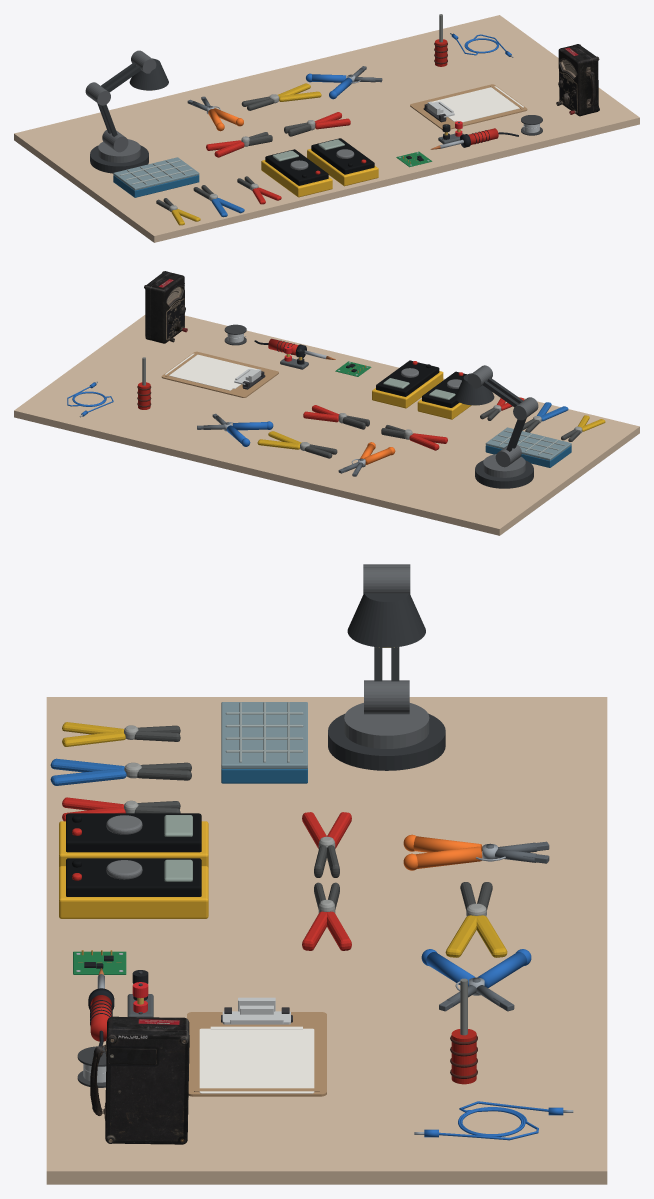
The model's file is workbench.glb.
3 renders of one model, top to bottom at view 1: azimuth 30°, elevation 25°; view 2: azimuth 150°, elevation 25°; view 3: azimuth 270°, elevation 25°, orthographic. The views are drawn at different scales.
Visible parts, largest first — view 1: part_0092, part_0102, part_0000, part_0097, part_0096, part_0095, part_0005, part_0003, part_0104, part_0101, part_0100, part_0094 (+3 smaller); view 2: part_0092, part_0102, part_0000, part_0095, part_0097, part_0005, part_0096, part_0003, part_0104, part_0101, part_0100, part_0094 (+2 smaller); view 3: part_0092, part_0102, part_0000, part_0095, part_0005, part_0097, part_0096, part_0003, part_0094, part_0104, part_0103, part_0098 (+6 smaller).
Boxes of the visible parts, bbox=[...] form: part_0092: bbox=[14, 15, 639, 242]; part_0102: bbox=[85, 50, 168, 173]; part_0000: bbox=[556, 44, 599, 116]; part_0097: bbox=[113, 157, 199, 197]; part_0096: bbox=[261, 149, 332, 197]; part_0095: bbox=[307, 138, 378, 186]; part_0005: bbox=[431, 86, 523, 122]; part_0003: bbox=[410, 84, 527, 129]; part_0104: bbox=[241, 83, 321, 110]; part_0101: bbox=[284, 112, 350, 136]; part_0100: bbox=[206, 132, 272, 157]; part_0094: bbox=[193, 185, 244, 217]; part_0092: bbox=[14, 315, 639, 535]; part_0102: bbox=[455, 365, 538, 488]; part_0000: bbox=[144, 271, 187, 343]; part_0095: bbox=[372, 360, 443, 408]; part_0097: bbox=[485, 427, 571, 467]; part_0005: bbox=[165, 353, 257, 390]; part_0096: bbox=[417, 371, 471, 419]; part_0003: bbox=[161, 351, 278, 397]; part_0104: bbox=[257, 431, 337, 458]; part_0101: bbox=[303, 405, 369, 429]; part_0100: bbox=[381, 425, 447, 450]; part_0094: bbox=[522, 402, 568, 432]; part_0092: bbox=[46, 697, 607, 1184]; part_0102: bbox=[328, 564, 445, 770]; part_0000: bbox=[90, 1016, 189, 1144]; part_0095: bbox=[59, 858, 208, 918]; part_0005: bbox=[199, 1026, 314, 1093]; part_0097: bbox=[221, 702, 307, 783]; part_0096: bbox=[59, 813, 208, 867]; part_0003: bbox=[187, 1012, 326, 1096]; part_0094: bbox=[50, 758, 191, 785]; part_0104: bbox=[445, 882, 507, 957]; part_0103: bbox=[62, 722, 180, 746]; part_0098: bbox=[450, 978, 477, 1084].
Size of the model in its own units: 1.8 by 0.3805 by 0.9.
Materials: 73 (1 with a texture image).
